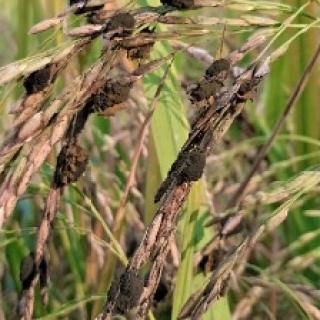Gosong-Palsu: (48, 142, 93, 195), (92, 70, 138, 119), (111, 256, 146, 318), (17, 250, 57, 298), (25, 59, 63, 98)
